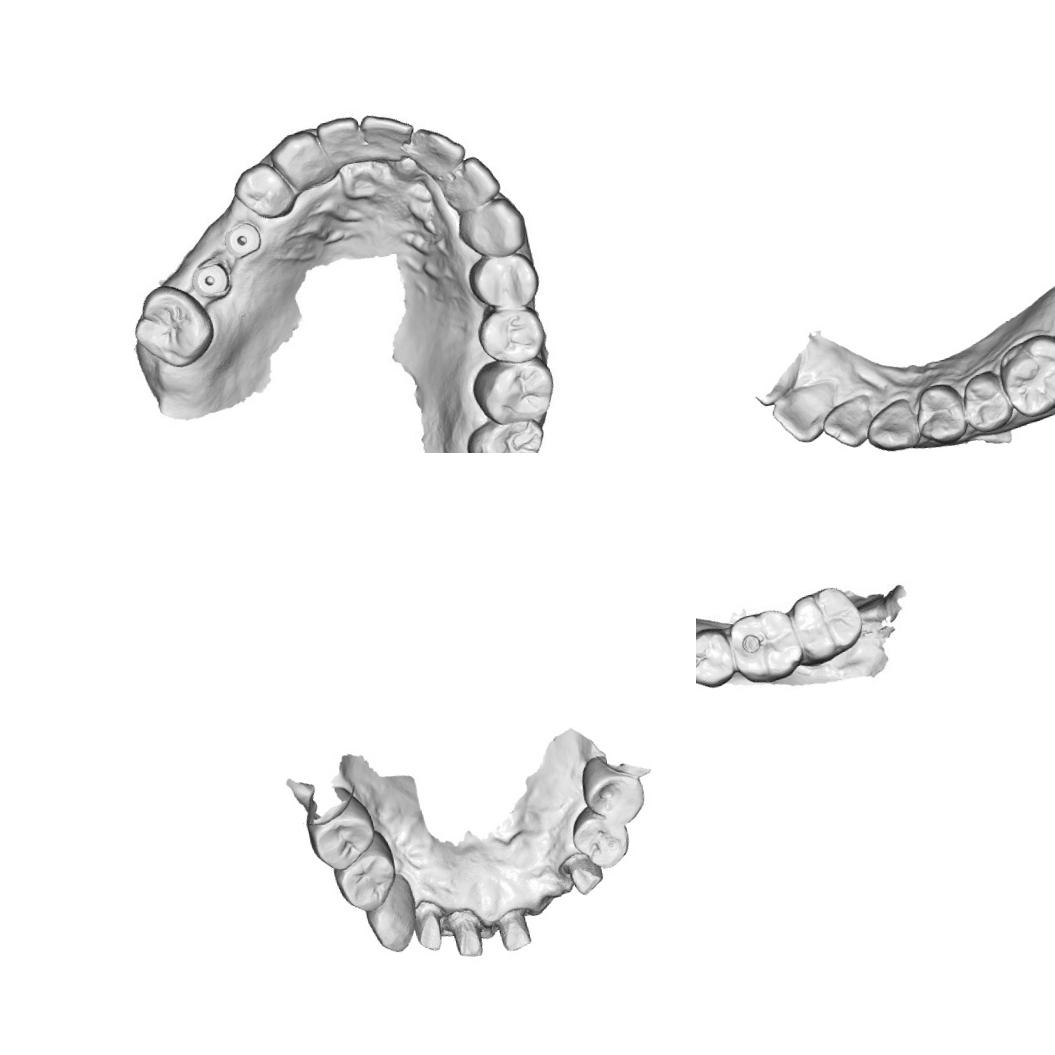canine: (358, 870, 424, 958), (455, 190, 528, 264), (228, 156, 299, 226), (859, 393, 923, 453)
crown: (556, 847, 606, 900), (409, 894, 451, 956), (489, 902, 537, 956), (446, 905, 488, 961)
implant: (188, 252, 238, 304), (220, 216, 266, 262)
incisor: (766, 378, 846, 448), (262, 124, 328, 194), (405, 119, 471, 181), (818, 391, 881, 453), (442, 149, 503, 211), (354, 107, 418, 166), (312, 111, 366, 171)
molar: (123, 273, 220, 377), (466, 351, 558, 428), (727, 606, 807, 684), (787, 584, 863, 660), (993, 329, 1055, 422), (463, 408, 550, 453)
premolar: (300, 792, 382, 876), (327, 828, 403, 918), (572, 748, 651, 832), (464, 246, 542, 316), (470, 298, 548, 368), (565, 801, 634, 875), (910, 378, 974, 448), (957, 365, 1018, 434), (696, 624, 740, 692)
